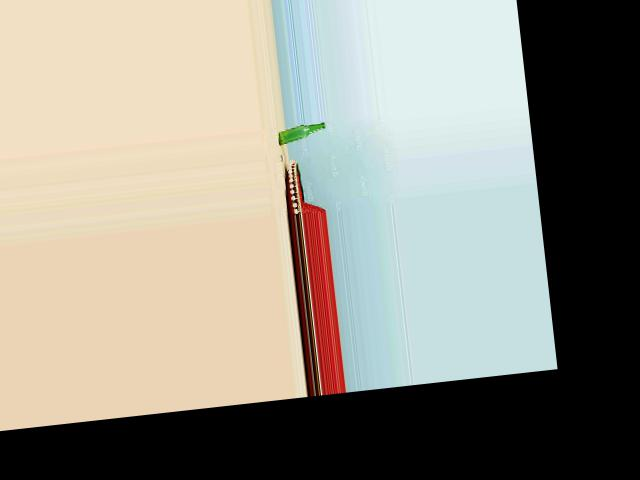beer: (276, 122, 327, 145)
